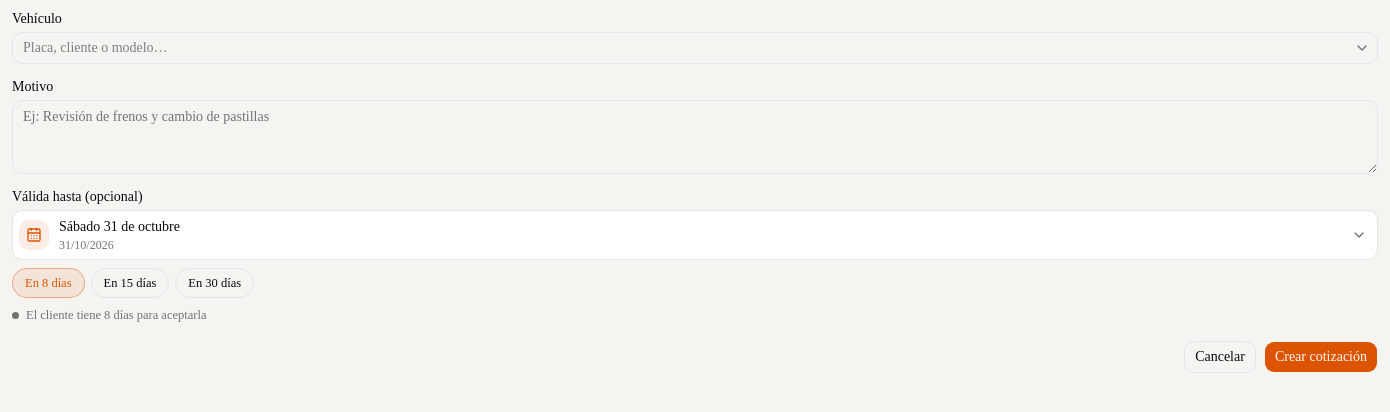
Test: NuevaCotizacionForm › requires a motivo before submitting
Click the dropdown at (695, 48), box x1=12 y1=32 x2=1378 y2=64
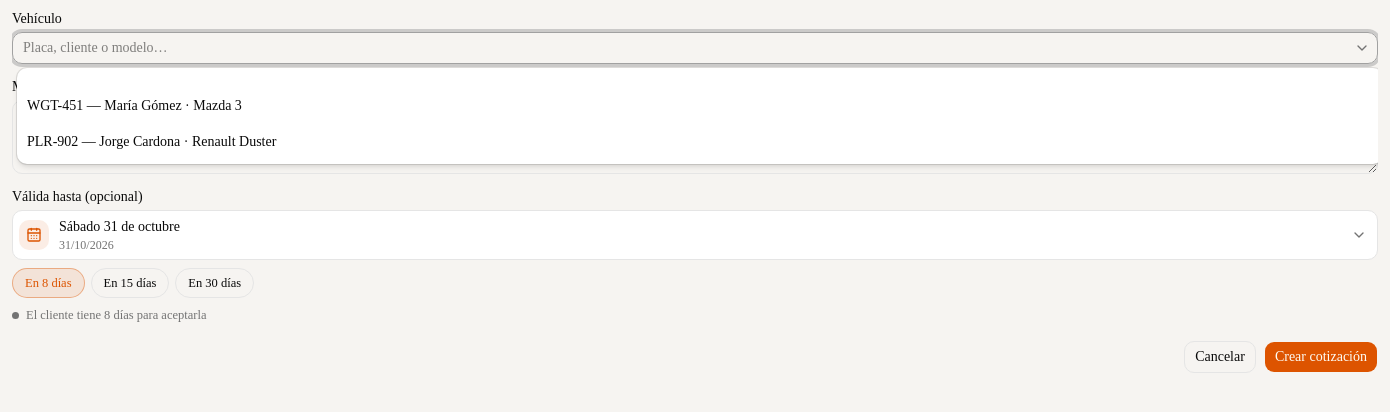
Click the option "WGT-451 — María Gómez · Mazda 3" at (134, 106), box x1=27 y1=98 x2=242 y2=113
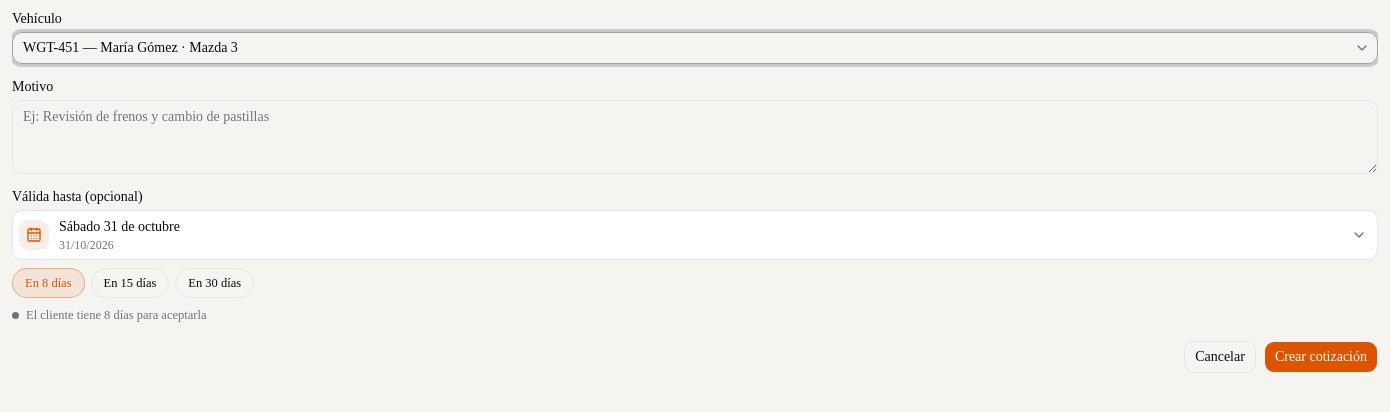
Click the button "Crear cotización" at (1321, 357), box x1=1264 y1=341 x2=1378 y2=373
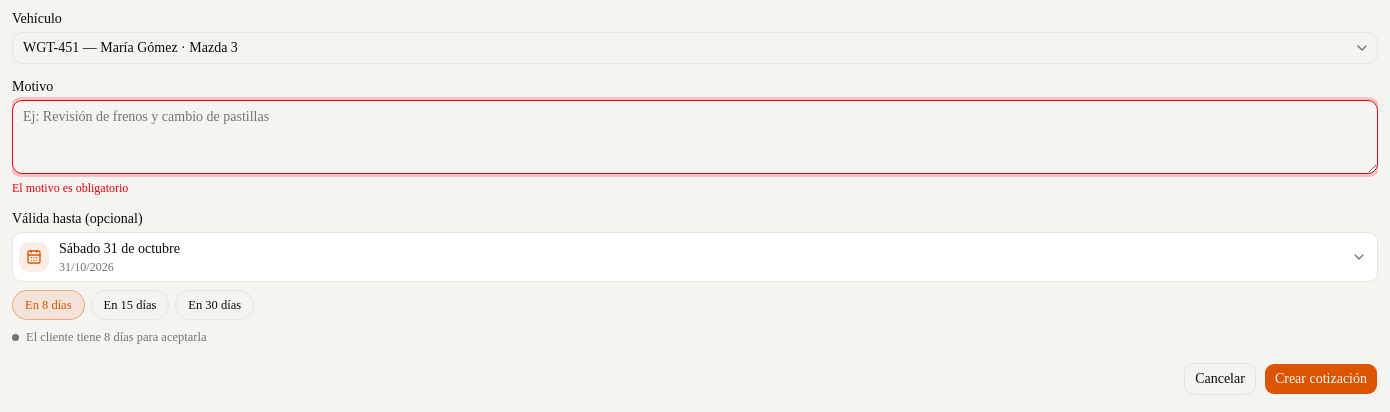
Result: the text "El motivo es obligatorio" is shown at x1=12 y1=181 x2=128 y2=195
